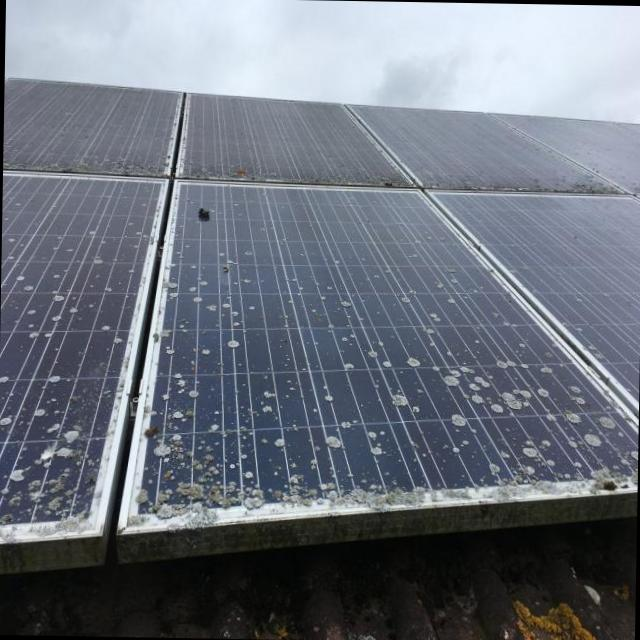faulty: (138, 188, 638, 517), (0, 171, 158, 523), (437, 197, 636, 397), (347, 105, 622, 193), (184, 95, 409, 181), (4, 80, 174, 177)
